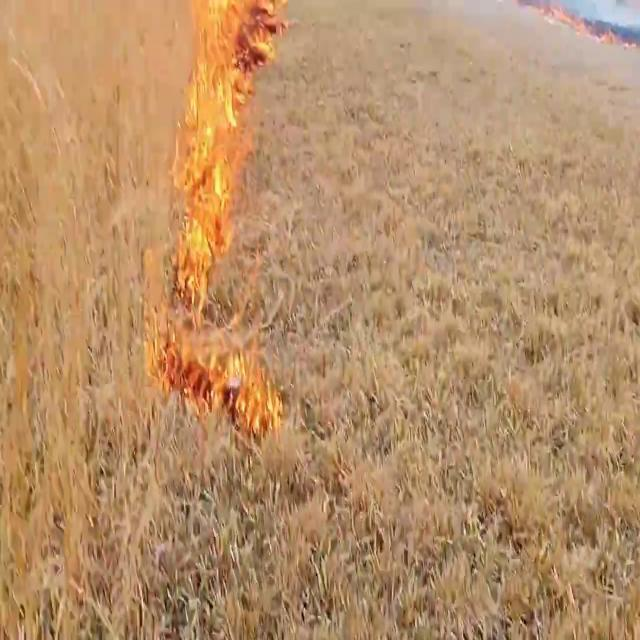Fire: (146, 0, 290, 432)
